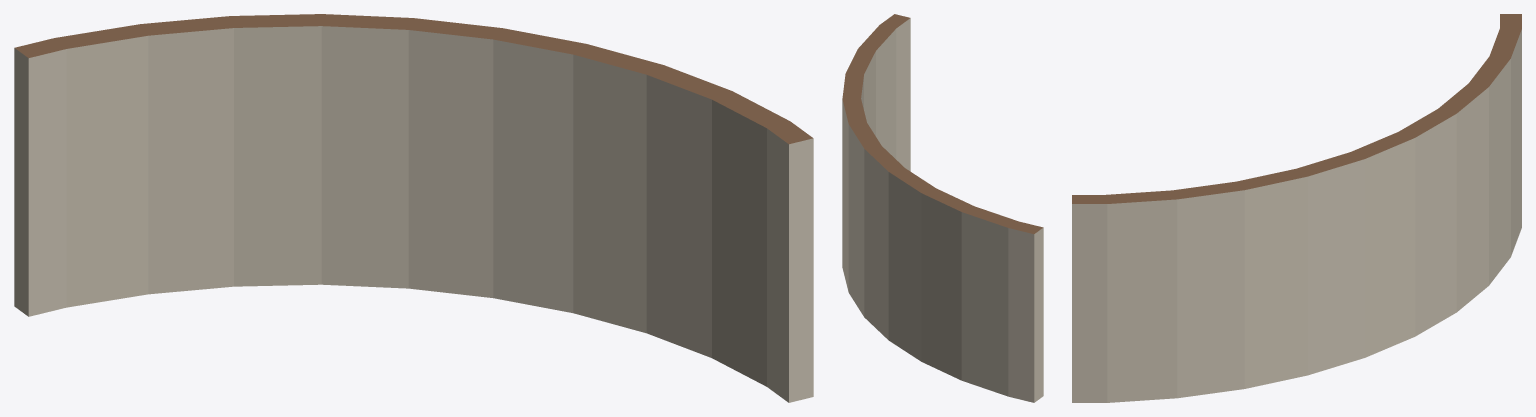
File: Structure_Wall_Curved_Large_Main.obj
3 views of the same model, side by side, from view 1: azimuth 30°, elevation 25°; view 2: azimuth 150°, elevation 25°; view 3: azimuth 270°, elevation 25° (orthographic). The views are drawn at different scales.
Parts seen in each view (by area): view 1: object1; view 2: object1; view 3: object1.
Boxes of the visible parts, bbox=[...] form: object1: bbox=[14, 14, 813, 402]; object1: bbox=[842, 14, 1043, 402]; object1: bbox=[1072, 14, 1521, 402].
Bounding box in the file's own units: 2.05 × 1 × 2.05.
